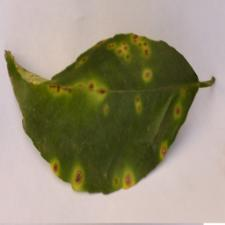Canker: (15, 24, 204, 195)
